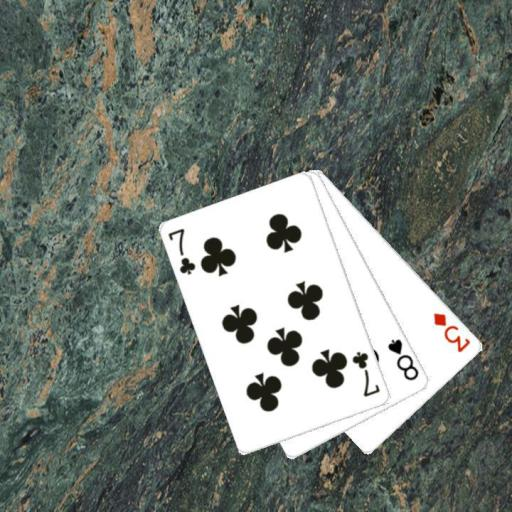3D: (430, 309, 473, 354)
7C: (165, 226, 198, 277), (349, 349, 382, 399)
8S: (385, 336, 421, 383)
